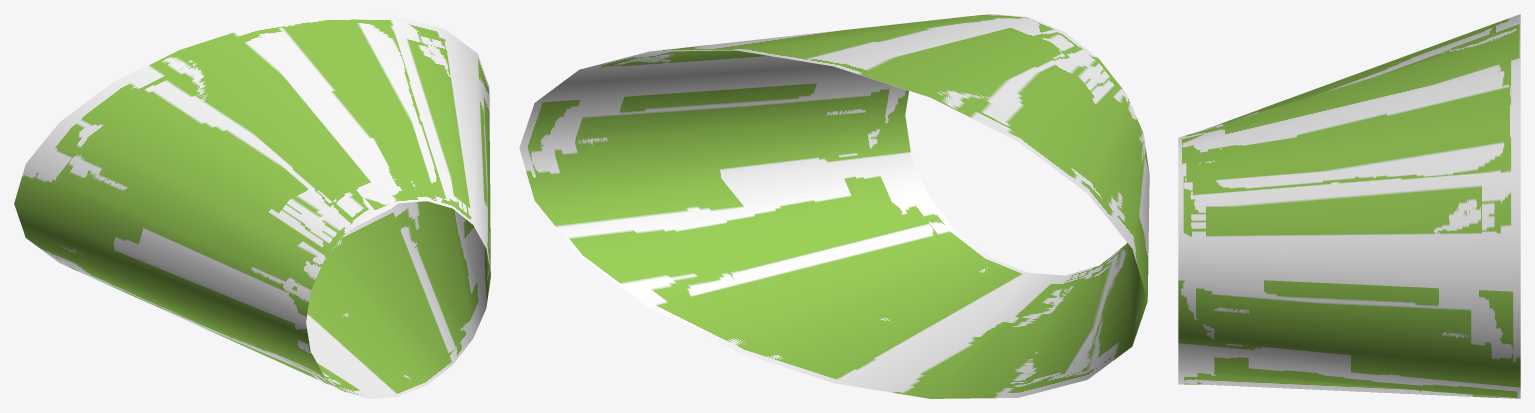
Rendered from locus BOBO.fbx.
3 renders of one model, left to right at view 1: azimuth 30°, elevation 25°; view 2: azimuth 150°, elevation 25°; view 3: azimuth 270°, elevation 25°, orthographic. The views are drawn at different scales.
Visible parts, largest first — view 1: pCylinder1; view 2: pCylinder1; view 3: pCylinder1.
Part boxes in pixels (x1,y1,x2,y2): pCylinder1: [14, 14, 490, 398]; pCylinder1: [519, 14, 1149, 398]; pCylinder1: [1178, 14, 1520, 398].
Size of the model in its own units: 28.61 by 15.15 by 15.3.
